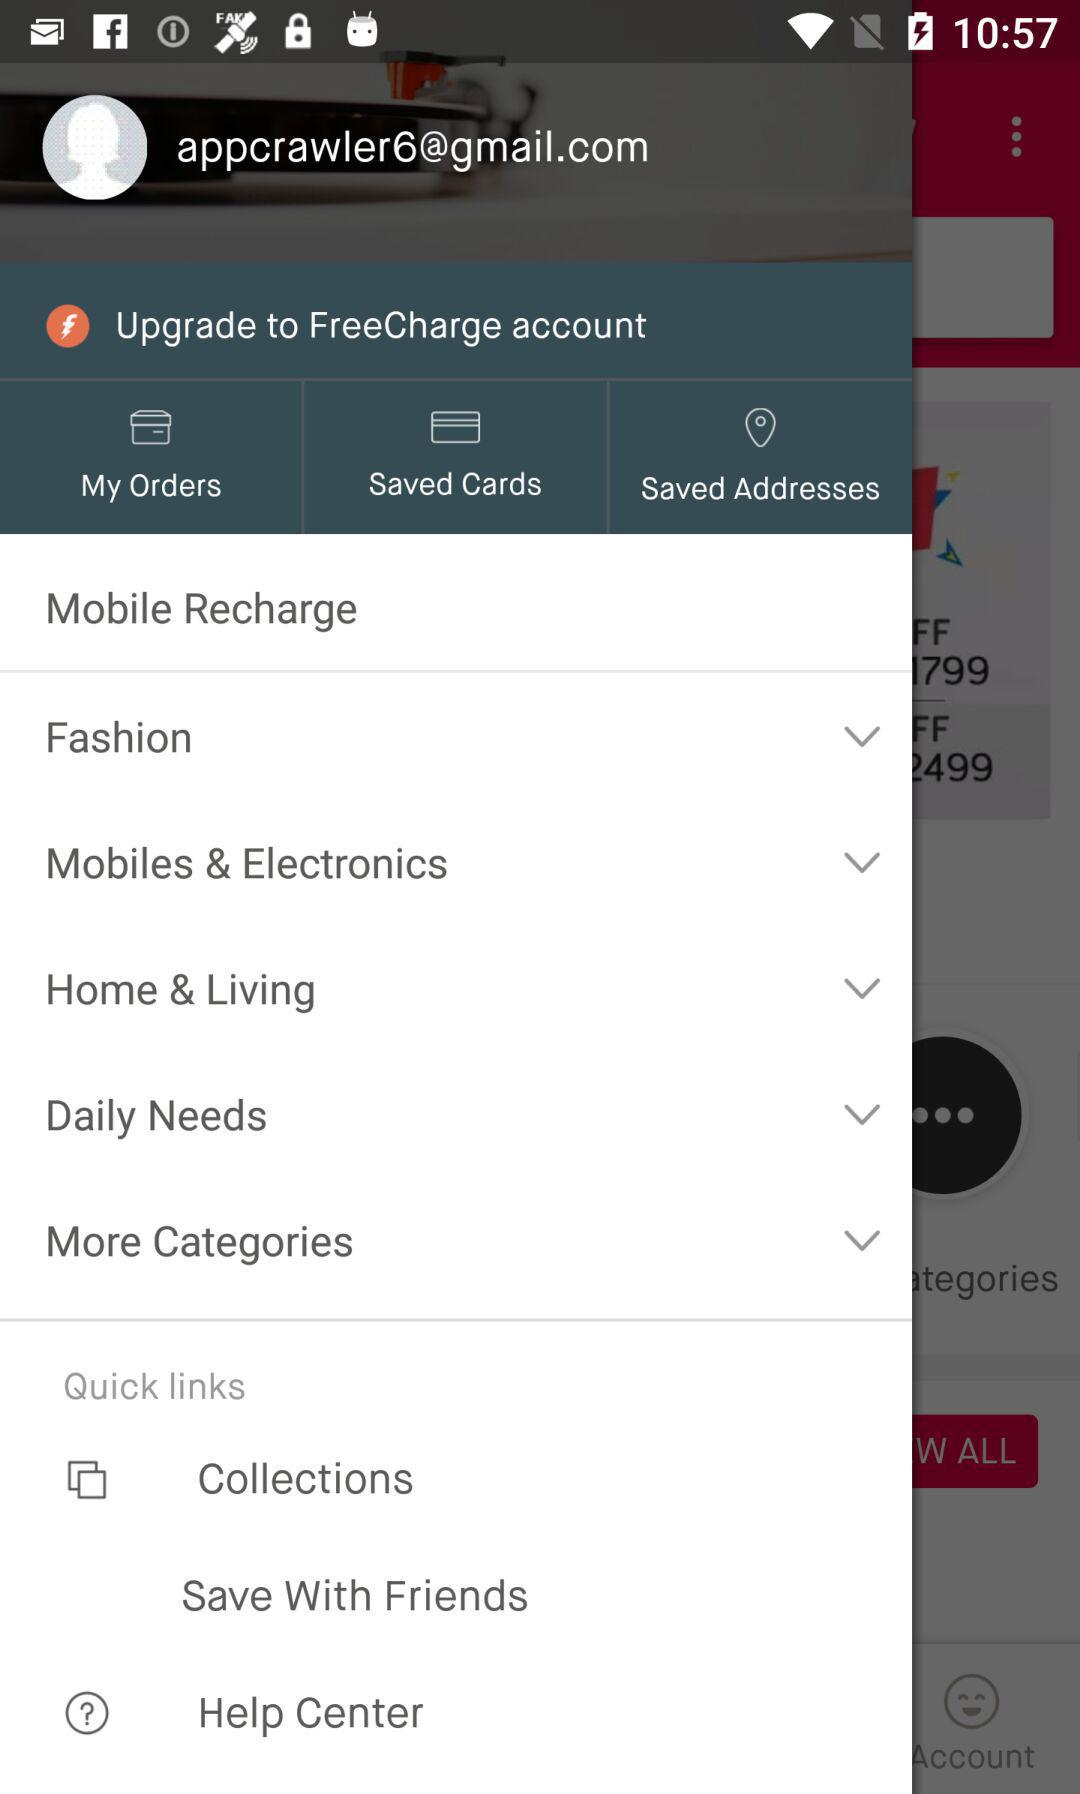Drawer: (1, 64, 912, 1794)
Icon: (42, 95, 149, 201), (67, 1691, 110, 1736), (67, 1460, 108, 1501), (843, 852, 881, 875), (844, 976, 881, 1000), (844, 727, 881, 750), (843, 1230, 881, 1252), (843, 1105, 881, 1126)
Image: (45, 304, 92, 350)
Text: (177, 129, 650, 174), (117, 311, 648, 349), (47, 846, 448, 882), (47, 591, 357, 634), (47, 1225, 354, 1267), (183, 1577, 529, 1613), (47, 973, 316, 1015), (47, 1097, 268, 1140), (201, 1695, 423, 1738), (199, 1461, 414, 1495), (64, 1371, 246, 1401), (47, 720, 192, 755)
TextButton: (304, 381, 609, 536), (609, 381, 912, 536), (1, 381, 304, 536)
UpperTaskBar: (1, 1, 1080, 64)
